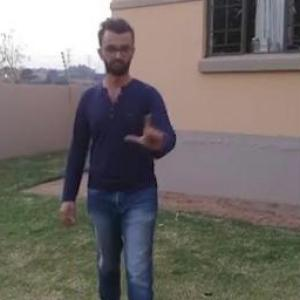land_hand: (122, 103, 172, 154)
